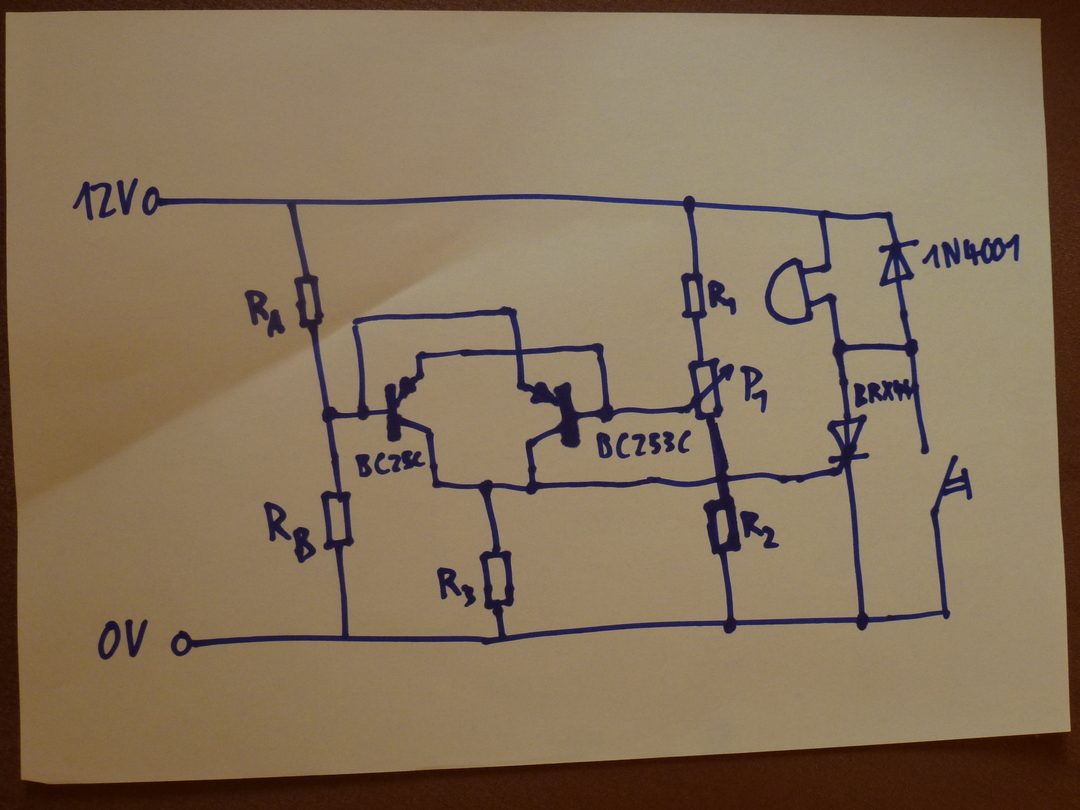crossover: (710, 471, 734, 487), (509, 344, 530, 360)
diode: (877, 238, 921, 287)
junction: (594, 403, 619, 425), (320, 404, 341, 425), (902, 337, 921, 359), (476, 477, 496, 497), (354, 403, 373, 424), (830, 337, 848, 359), (523, 478, 542, 498), (680, 193, 698, 214), (503, 302, 522, 321), (721, 616, 739, 636), (854, 611, 870, 632), (591, 339, 607, 357), (282, 195, 301, 210), (823, 290, 839, 306), (814, 206, 829, 223), (938, 607, 953, 622), (495, 632, 510, 647), (414, 348, 428, 364), (882, 208, 895, 223), (821, 260, 834, 275), (337, 632, 353, 644), (349, 315, 362, 329), (430, 477, 443, 490)
lamp: (763, 255, 816, 328)
resistor: (478, 547, 516, 615), (701, 495, 742, 557), (319, 489, 356, 553), (292, 273, 326, 331), (679, 270, 708, 320)
resistor.adjustable: (686, 356, 734, 424)
switch: (920, 449, 973, 514)
terminal: (169, 628, 196, 657), (140, 184, 163, 217)
text: (922, 233, 1022, 270), (262, 500, 318, 565), (71, 177, 139, 221), (594, 429, 693, 459), (95, 617, 149, 662), (243, 288, 287, 339), (354, 449, 427, 479), (435, 565, 478, 610), (852, 378, 913, 408), (739, 509, 781, 550), (738, 364, 769, 415), (706, 278, 739, 317)
thyristor: (825, 413, 873, 478)
transistor: (515, 380, 582, 450), (383, 370, 437, 443)
